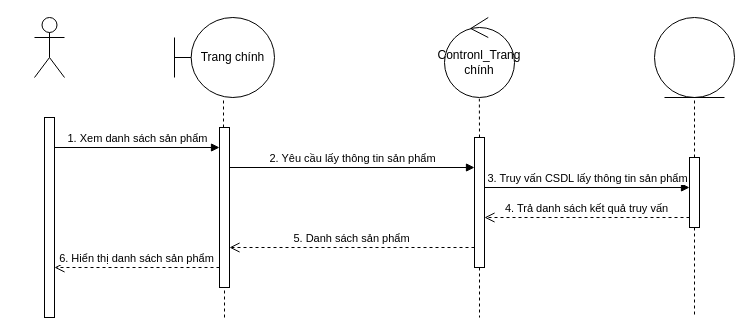
This 754x336 diagram has some shape labels left out. The shapes that lost their labels are listed below. From the top down, each one's centre as x and y in pixels, then its label:
At pixel 49 47: "Khách hàng".
At pixel 694 57: "CSDL_Products".
